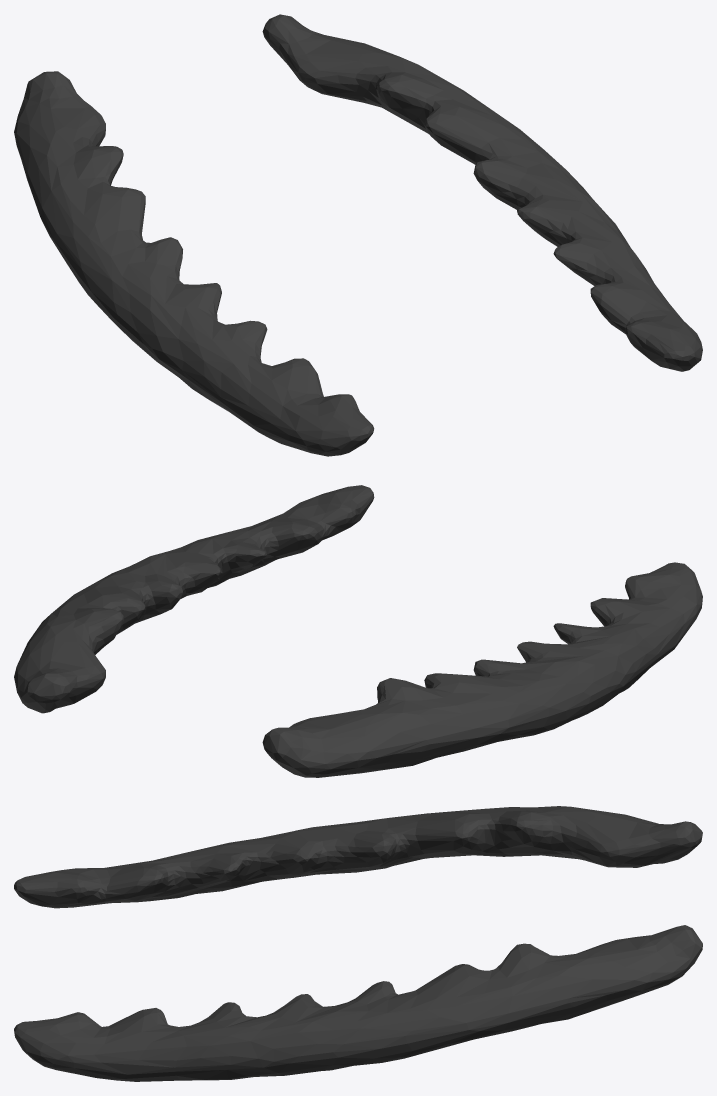
Rendered from m_quadratus_lumborum.glb.
3 renders of one model, top to bottom at view 1: azimuth 30°, elevation 25°; view 2: azimuth 150°, elevation 25°; view 3: azimuth 270°, elevation 25°, orthographic. The views are drawn at different scales.
Parts seen in each view (by area): view 1: m_quadratus_lumborum; view 2: m_quadratus_lumborum; view 3: m_quadratus_lumborum.
Boxes of the visible parts, left/top/right/bottom form: m_quadratus_lumborum: left=14, top=14, right=702, bottom=456; m_quadratus_lumborum: left=14, top=485, right=702, bottom=777; m_quadratus_lumborum: left=14, top=806, right=702, bottom=1081.
Bounding box in the file's own units: 0.00476 × 0.00118 × 0.00641.
1 material, 1 textured.
